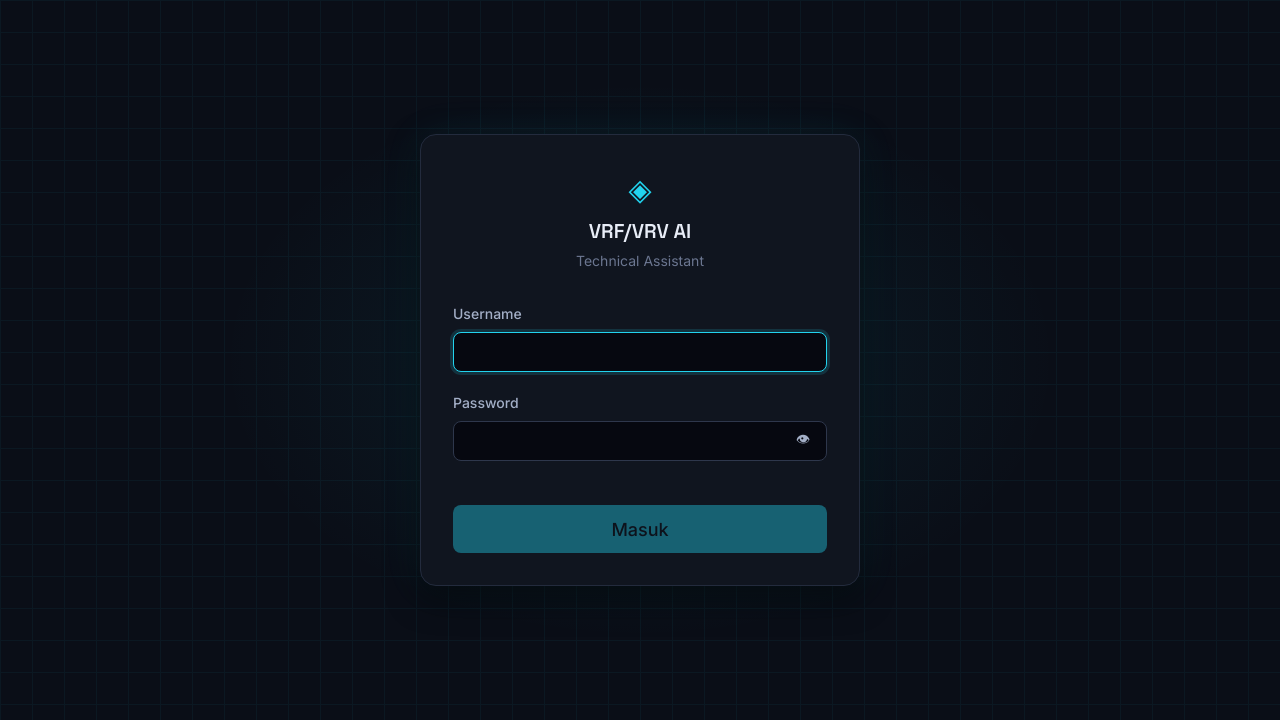
Test: LoginPage › shows a network error message and re-enables the button on network failure
The image size is (1280, 720).
Type "jalal" into the field labelled "Username" at (640, 352), box [453,332,827,372]
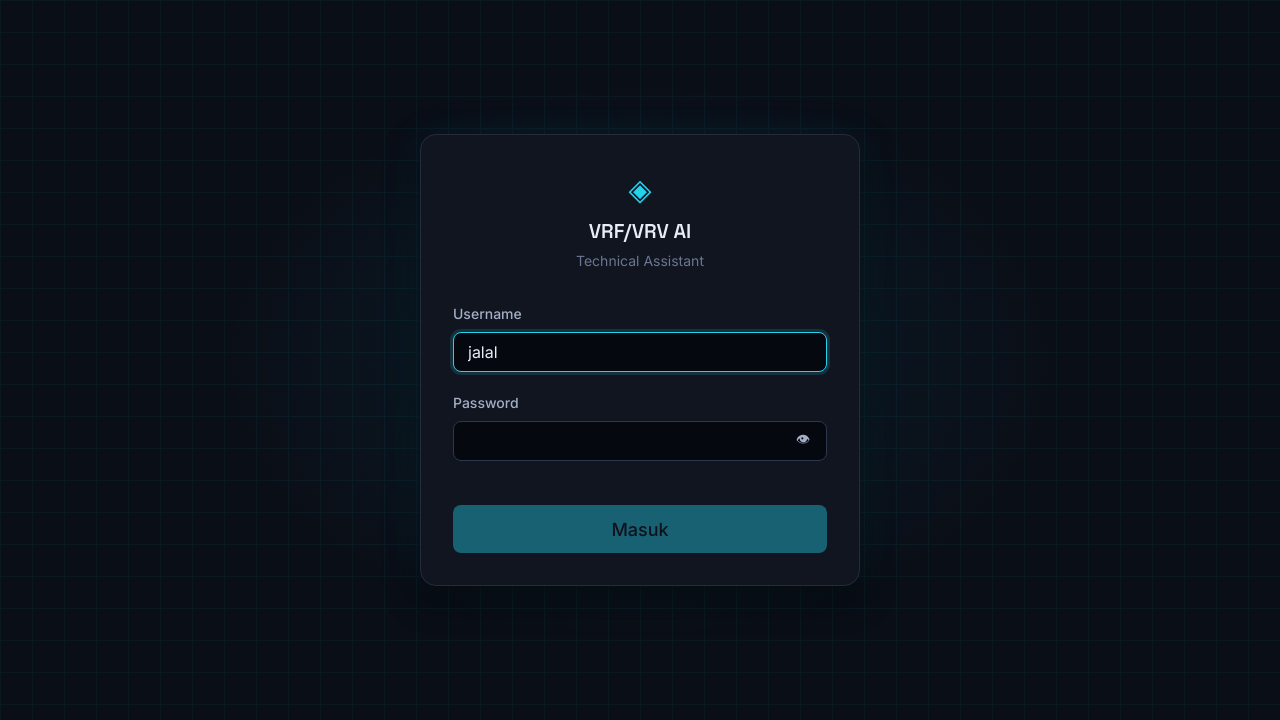
Type "whatever" into the password field labelled "Password" at (640, 441), box [453,421,827,461]
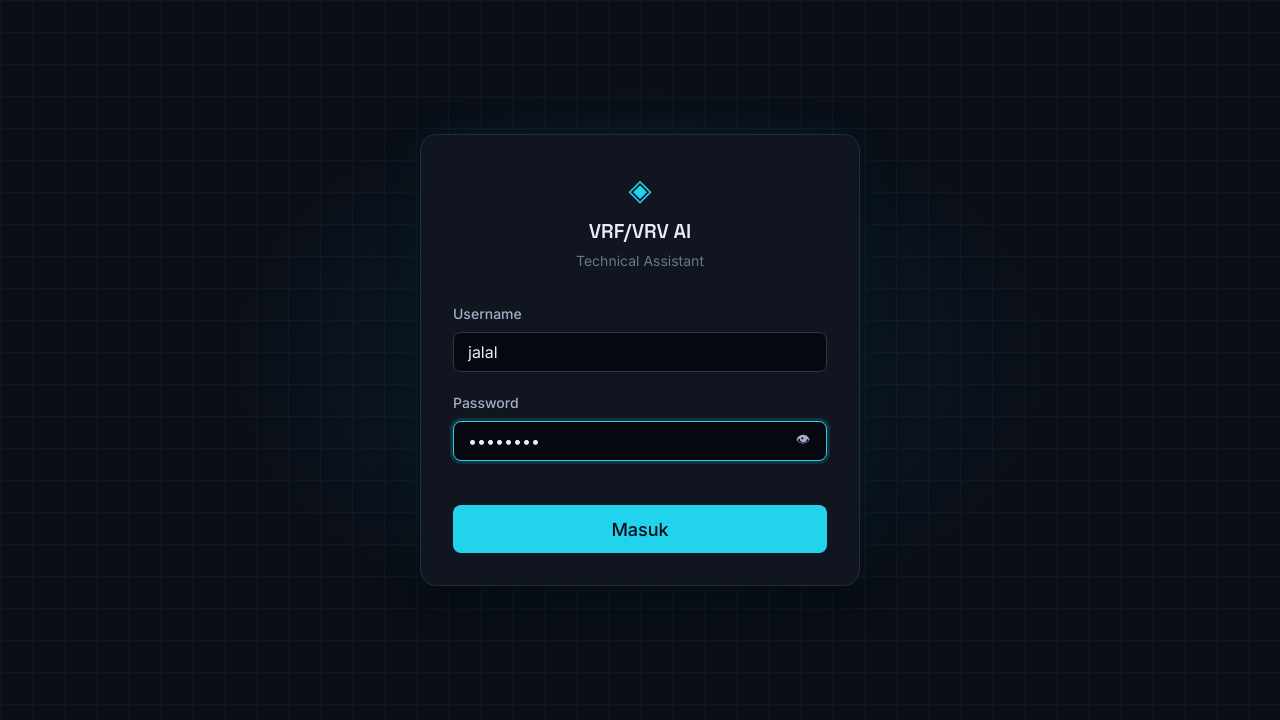
Click the button "Masuk" at (640, 529), box [453,505,827,553]
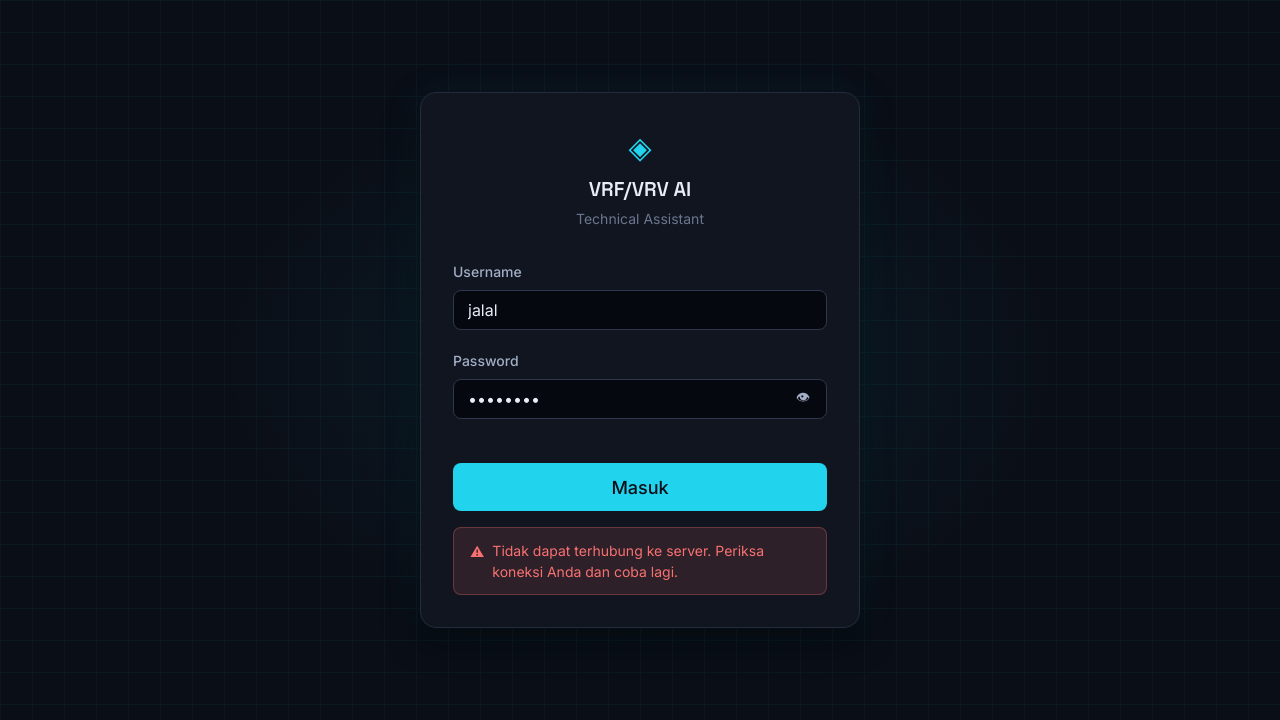
Result: the button "Masuk" is enabled at [453,463,827,511]
Result: the message shows "Tidak dapat terhubung ke server" at [492,542,764,580]
